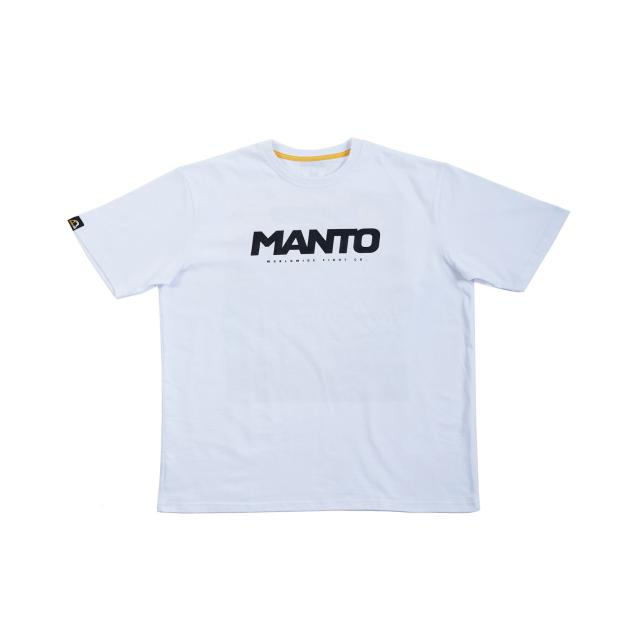shirt: (71, 137, 569, 512)
